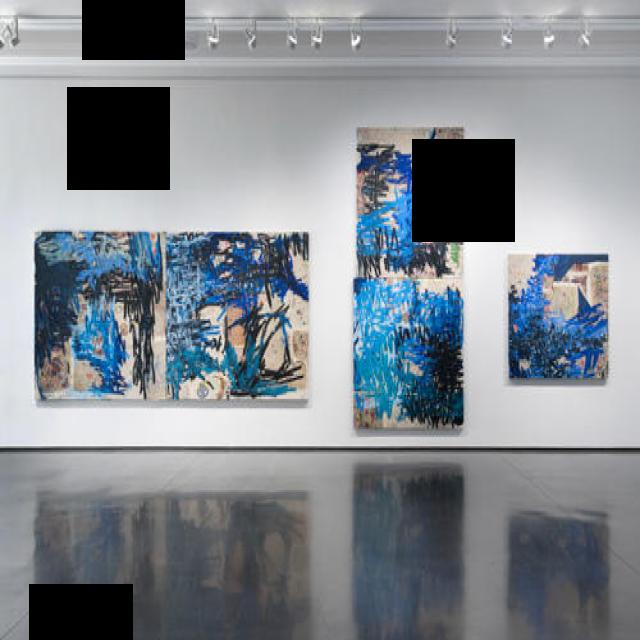Tablo: (33, 230, 309, 401), (352, 125, 465, 428), (506, 252, 610, 380)
